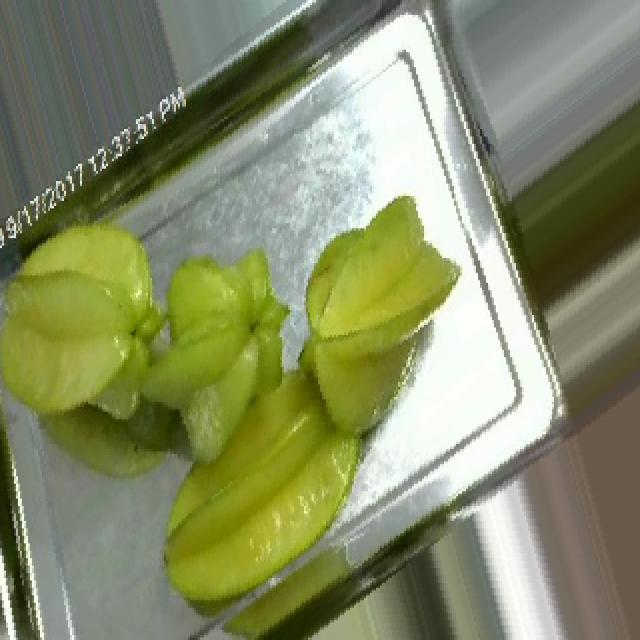fruit: (116, 206, 430, 598), (268, 171, 488, 464), (0, 176, 216, 457), (0, 0, 222, 246)
